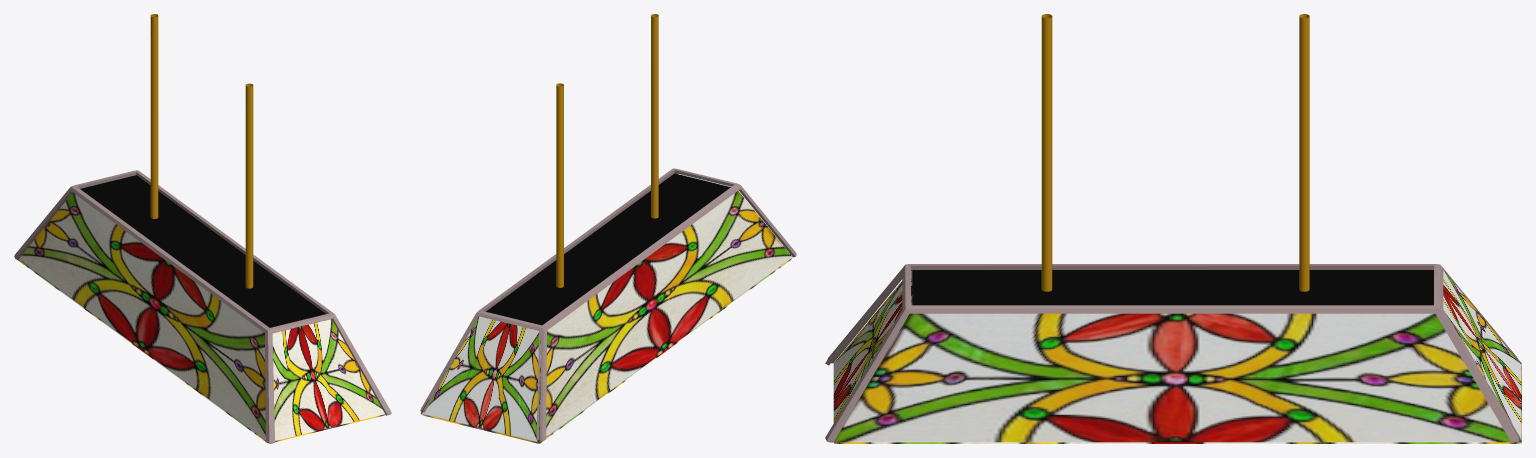
File: lamp.fbx
3 views of the same model, side by side, from view 1: azimuth 30°, elevation 25°; view 2: azimuth 150°, elevation 25°; view 3: azimuth 270°, elevation 25° (orthographic). The views are drawn at different scales.
Parts seen in each view (by area): view 1: polySurface68, polySurface69, pCylinder45, pCylinder46, polySurface67; view 2: polySurface68, polySurface69, pCylinder46, pCylinder45, polySurface67; view 3: polySurface68, polySurface69, pCylinder45, pCylinder46, polySurface67.
Part boxes in pixels (x1,y1,x2,y2): polySurface68: [18, 175, 384, 440]; polySurface69: [14, 170, 391, 443]; pCylinder45: [245, 83, 253, 288]; pCylinder46: [150, 14, 158, 218]; polySurface67: [17, 259, 385, 443]; polySurface68: [421, 173, 792, 442]; polySurface69: [420, 168, 796, 441]; pCylinder46: [556, 83, 563, 287]; pCylinder45: [651, 14, 658, 218]; polySurface67: [421, 258, 792, 443]; polySurface68: [833, 270, 1521, 442]; polySurface69: [825, 264, 1520, 442]; pCylinder45: [1041, 14, 1052, 291]; pCylinder46: [1299, 14, 1309, 291]; polySurface67: [834, 365, 1521, 443].
Size of the model in its own units: 107 by 234 by 381.
